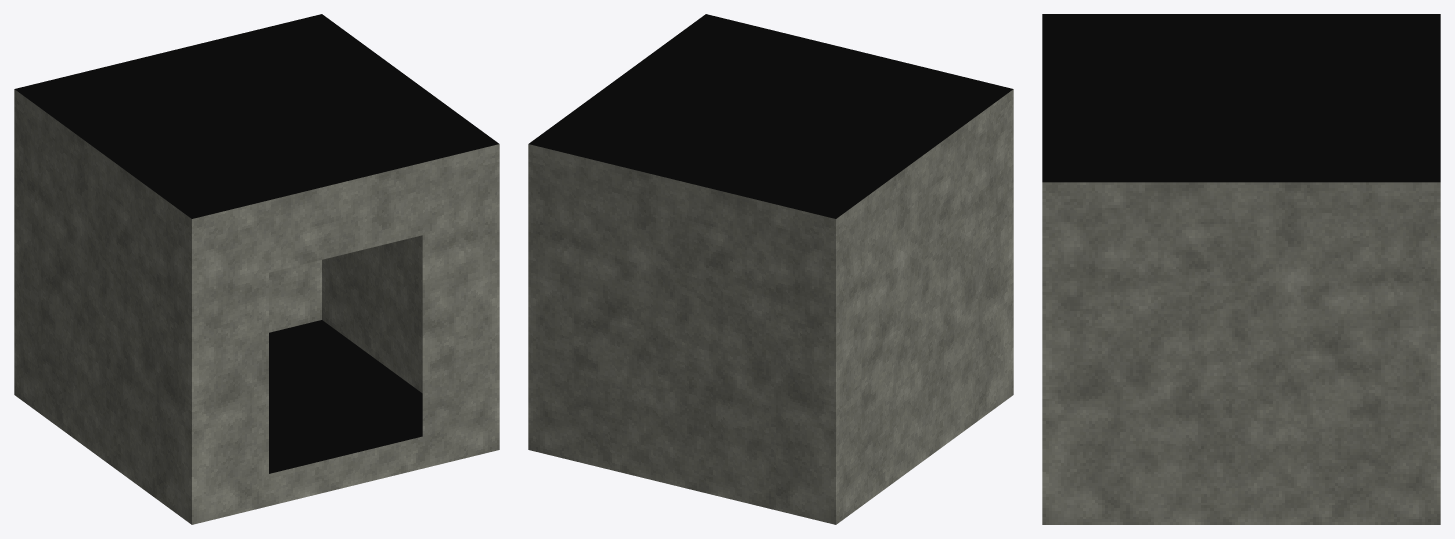
File: elevator_well.glb
3 views of the same model, side by side, from view 1: azimuth 30°, elevation 25°; view 2: azimuth 150°, elevation 25°; view 3: azimuth 270°, elevation 25° (orthographic). The views are drawn at different scales.
Visible parts, largest first — view 1: ElevatorWell; view 2: ElevatorWell; view 3: ElevatorWell.
Part boxes in pixels (x1,y1,x2,y2): ElevatorWell: [14, 14, 499, 524]; ElevatorWell: [528, 14, 1013, 524]; ElevatorWell: [1042, 14, 1440, 524].
Bounding box in the file's own units: 4 × 3.8 × 4.
2 materials, 1 textured.
